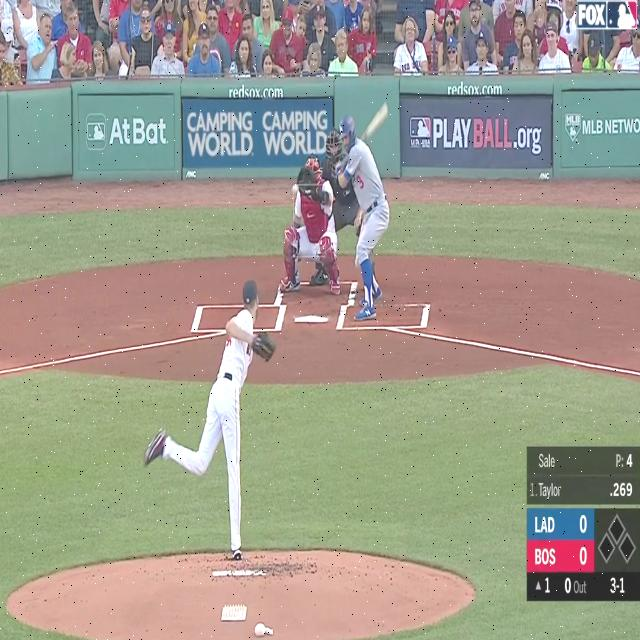baseball: (292, 184, 298, 193)
